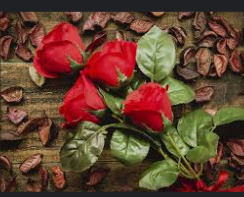RedRose: (22, 21, 85, 76), (86, 37, 142, 90), (120, 83, 184, 127), (58, 75, 111, 125)
